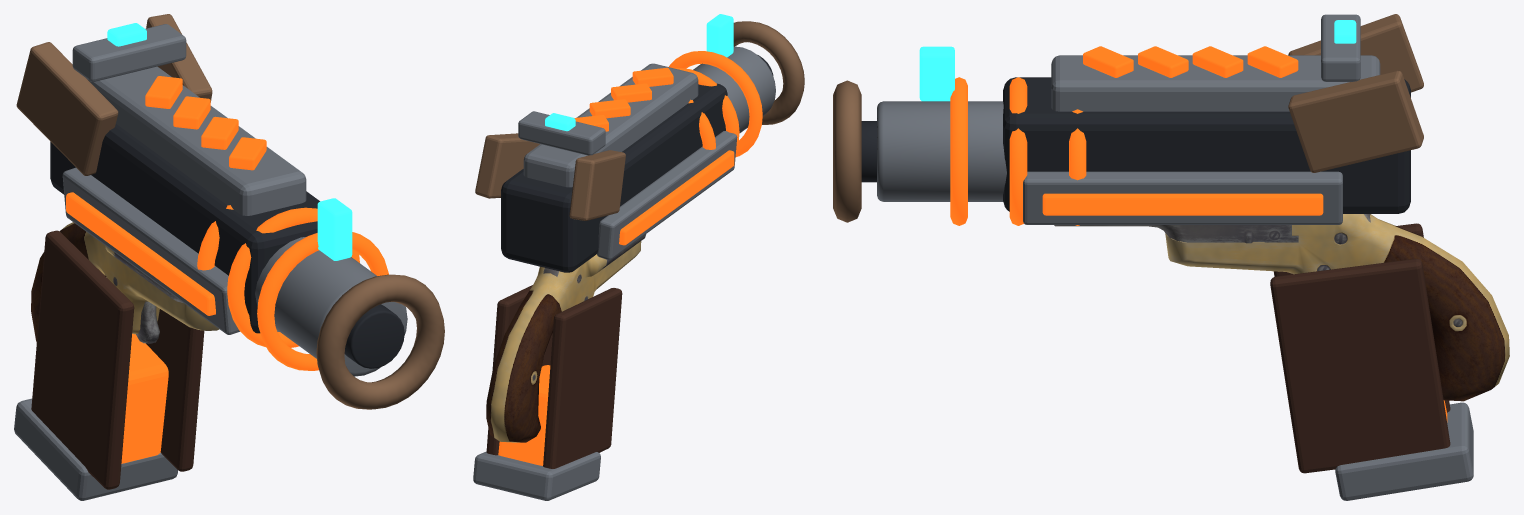
The model's file is HellcasterPistol.fbx.
The picture shows the model from 3 angles, left to right: view 1: azimuth 30°, elevation 25°; view 2: azimuth 150°, elevation 25°; view 3: azimuth 270°, elevation 25°; orthographic projection. The views are drawn at different scales.
Visible parts, largest first — view 1: GripArmor_1, UpperSlide, SlideCrown, MuzzleCrown, RearFin_1, BarrelSleeve, SideRail_1, GripArmor_-1, AntiquePBR_Core, MagazineBase, PowerCell, ArcCoil_148 (+12 smaller); view 2: UpperSlide, GripArmor_1, AntiquePBR_Core, SlideCrown, SideRail_1, MagazineBase, RearFin_1, MuzzleCrown, BarrelSleeve, RearFin_-1, EmberConduit_1, RearSight (+10 smaller); view 3: GripArmor_-1, UpperSlide, AntiquePBR_Core, SlideCrown, SideRail_-1, BarrelSleeve, RearFin_-1, EmberConduit_-1, MagazineBase, MuzzleCrown, RearFin_1, ArcCoil_148 (+9 smaller).
Boxes of the visible parts, <box> form: GripArmor_1: <box>31,230,134,489</box>; UpperSlide: <box>50,124,319,333</box>; SlideCrown: <box>86,66,306,215</box>; MuzzleCrown: <box>316,274,444,409</box>; RearFin_1: <box>16,42,118,175</box>; BarrelSleeve: <box>255,237,407,376</box>; SideRail_1: <box>62,167,239,334</box>; GripArmor_-1: <box>146,309,204,471</box>; AntiquePBR_Core: <box>31,222,279,343</box>; MagazineBase: <box>14,398,178,500</box>; PowerCell: <box>121,333,168,463</box>; ArcCoil_148: <box>257,232,388,370</box>; UpperSlide: <box>501,83,727,272</box>; GripArmor_1: <box>543,288,622,468</box>; AntiquePBR_Core: <box>486,234,646,442</box>; SlideCrown: <box>523,63,698,187</box>; SideRail_1: <box>597,131,737,259</box>; MagazineBase: <box>473,451,600,500</box>; RearFin_1: <box>569,150,625,220</box>; MuzzleCrown: <box>733,21,804,124</box>; BarrelSleeve: <box>693,46,775,132</box>; RearFin_-1: <box>475,133,539,198</box>; EmberConduit_1: <box>619,150,734,245</box>; RearSight: <box>518,111,605,155</box>; GripArmor_-1: <box>1270,258,1450,473</box>; UpperSlide: <box>1003,77,1410,213</box>; AntiquePBR_Core: <box>1054,214,1509,401</box>; SlideCrown: <box>1051,55,1380,111</box>; SideRail_-1: <box>1023,171,1342,224</box>; BarrelSleeve: <box>877,101,1006,201</box>; RearFin_-1: <box>1288,70,1423,172</box>; EmberConduit_-1: <box>1042,193,1323,215</box>; MagazineBase: <box>1335,402,1473,500</box>; MuzzleCrown: <box>833,80,861,222</box>; RearFin_1: <box>1288,14,1423,92</box>; ArcCoil_148: <box>950,77,967,225</box>.
Size of the model in its own units: 0.076 by 0.2277 by 0.3085.
Materials: 7 (1 with a texture image).
